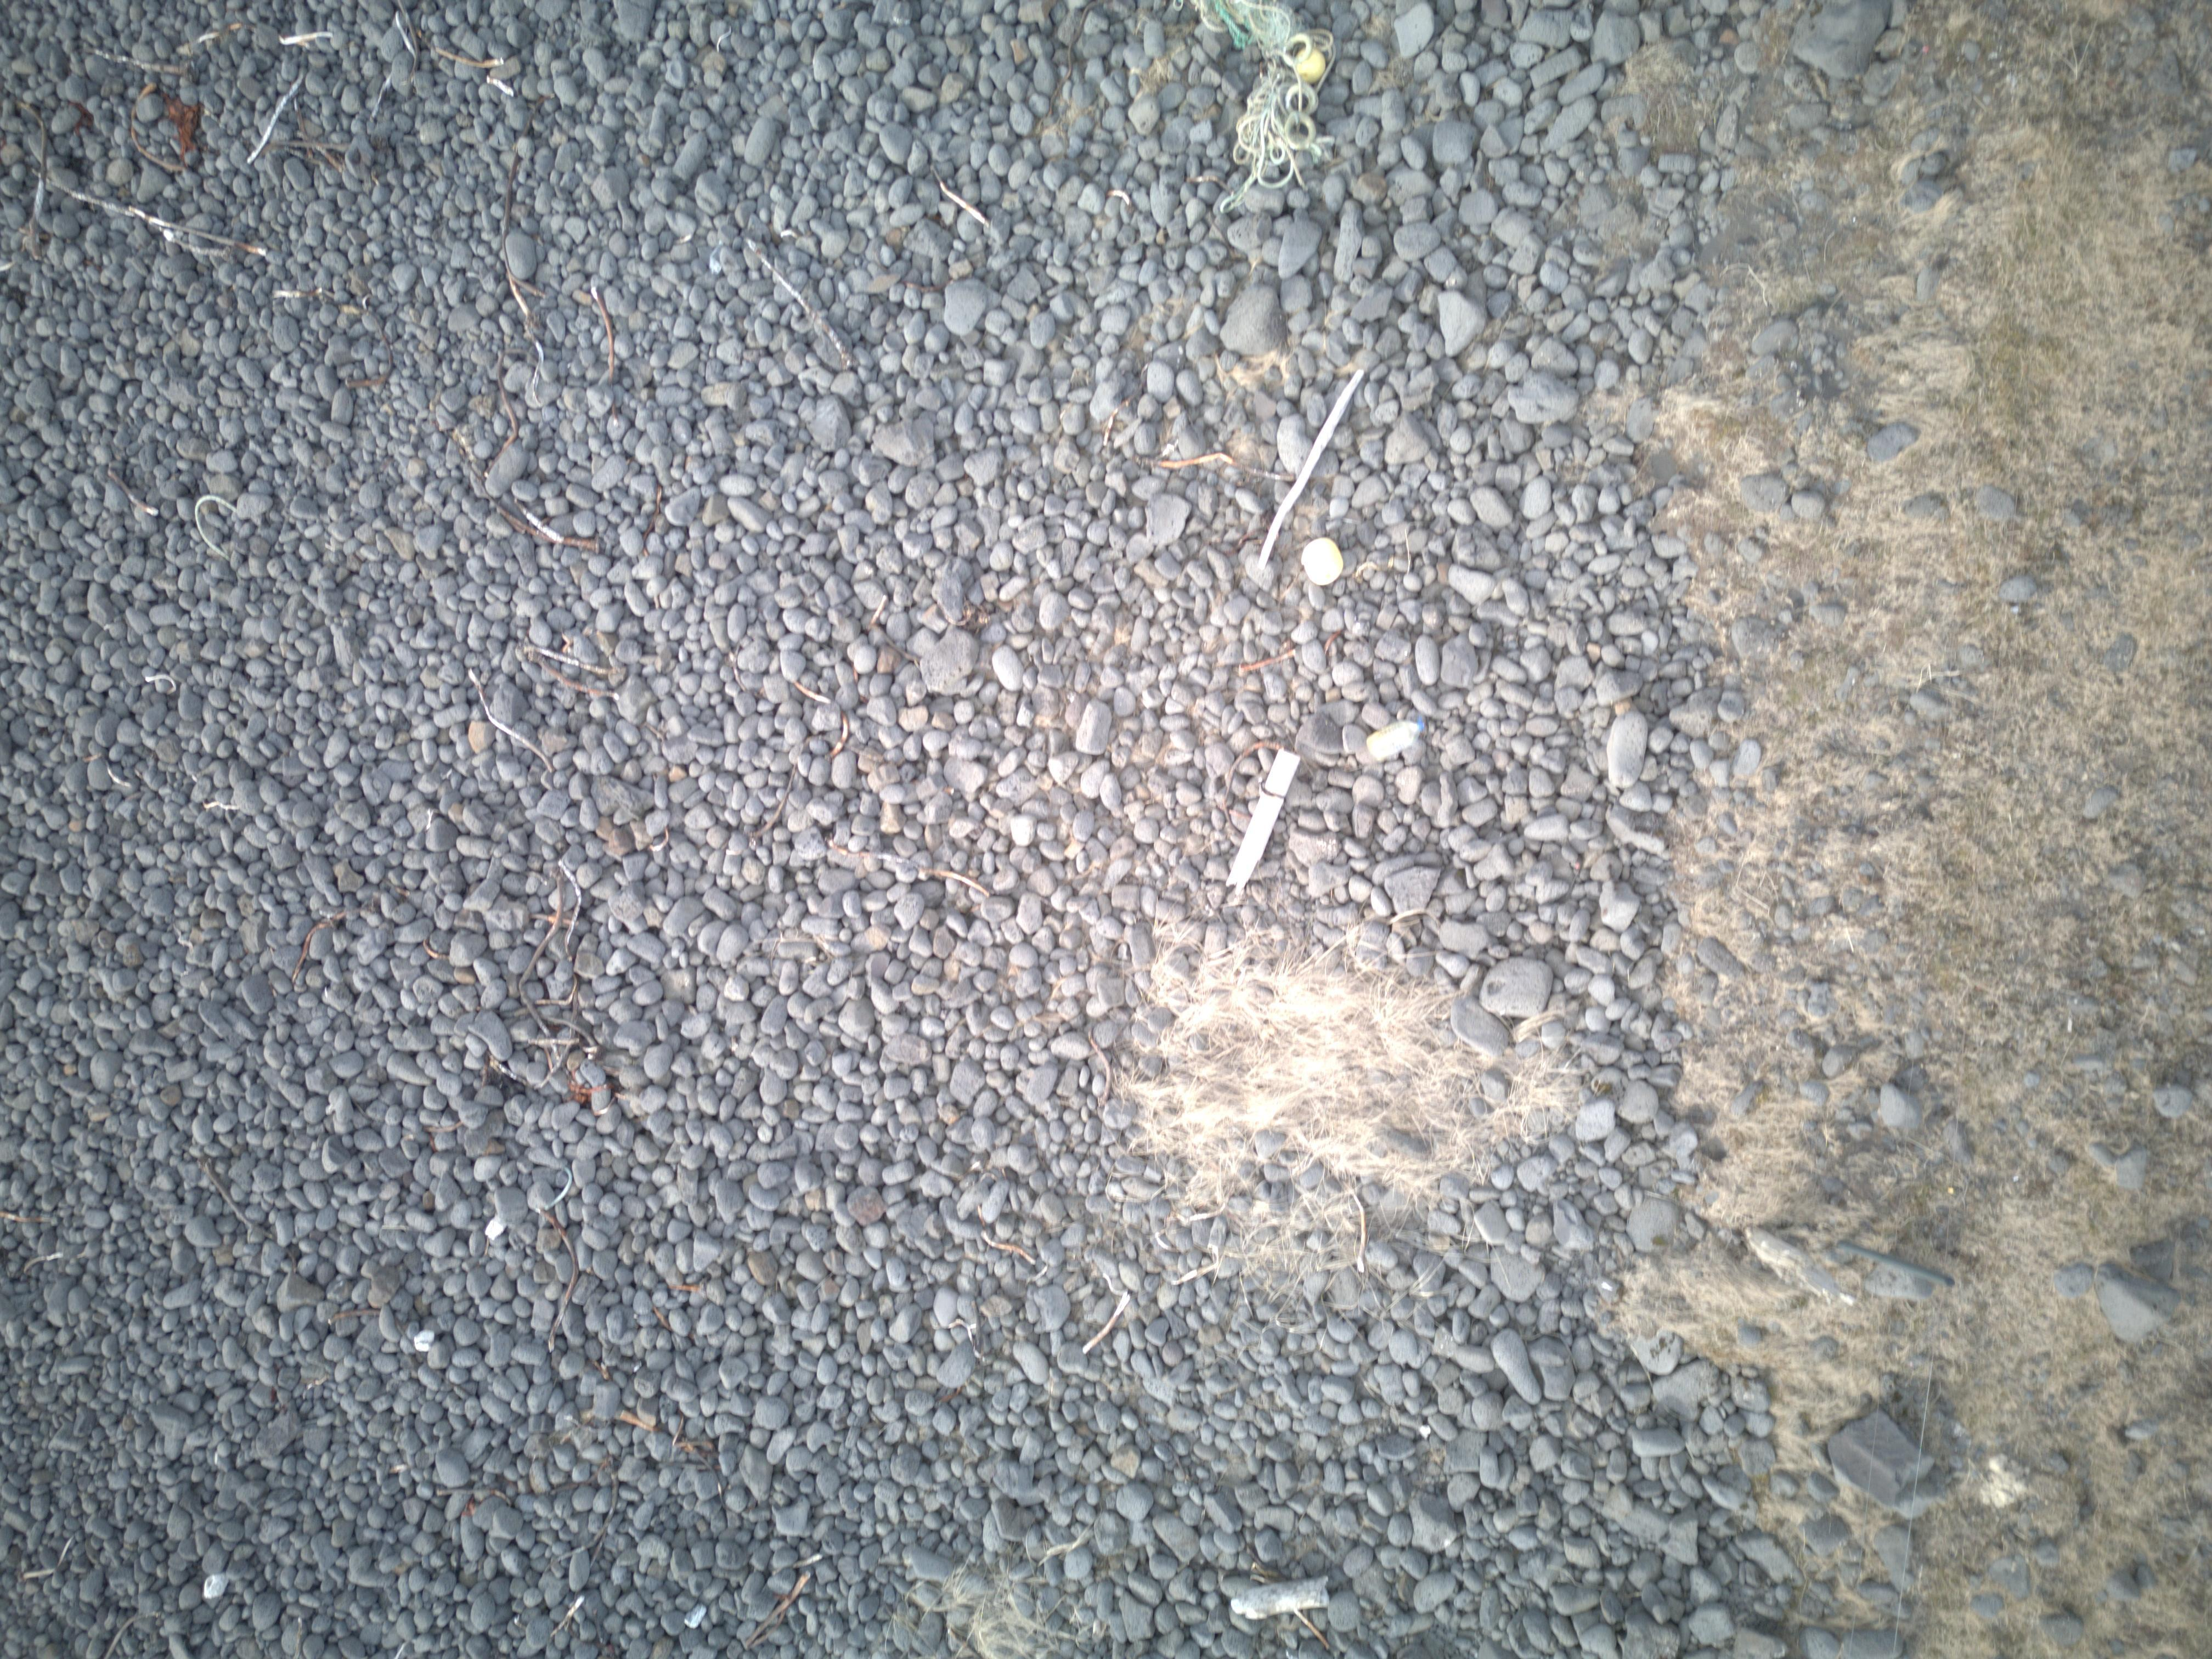trash: (1193, 0, 1334, 211), (1301, 535, 1343, 587), (1366, 721, 1421, 760)
